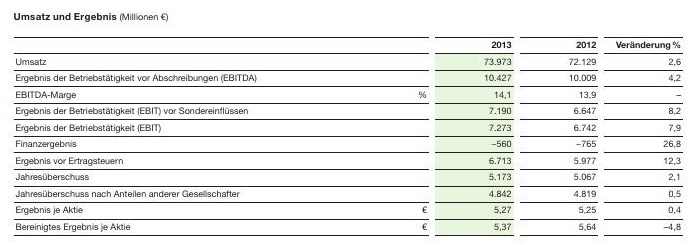table: (0, 0, 696, 245)
